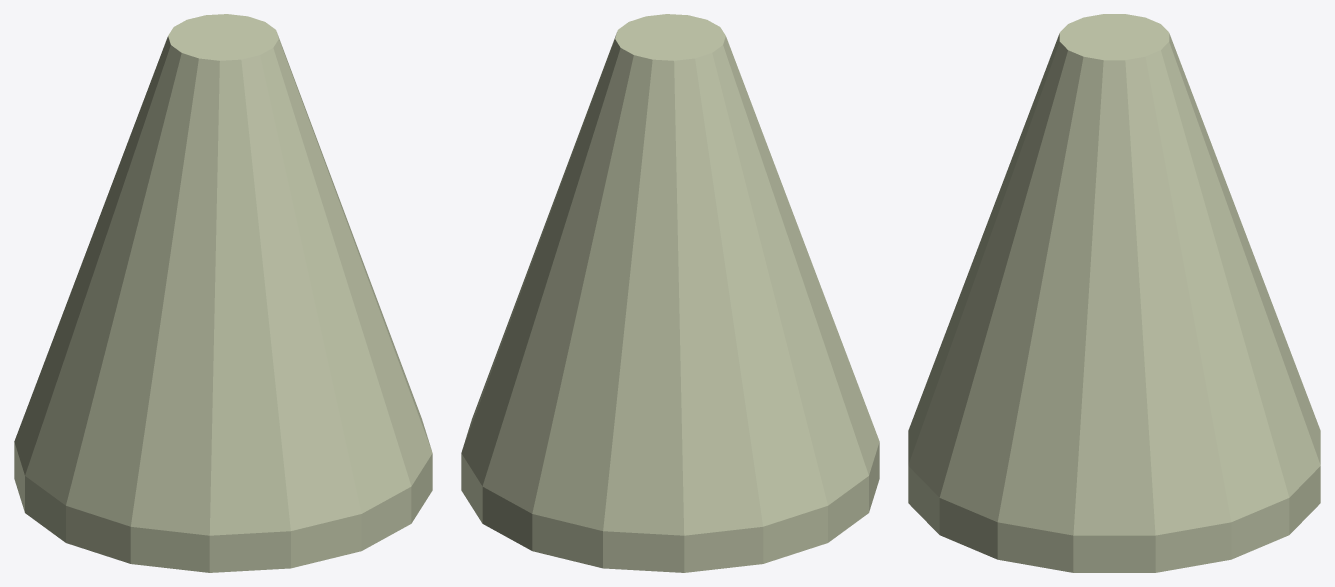
Rendered from Conic_ProbeCore_0_1_Collider.obj.
The picture shows the model from 3 angles, left to right: view 1: azimuth 30°, elevation 25°; view 2: azimuth 150°, elevation 25°; view 3: azimuth 270°, elevation 25°; orthographic projection.
Visible parts, largest first — view 1: SatConic_ProbeCore_0_1_Collider; view 2: SatConic_ProbeCore_0_1_Collider; view 3: SatConic_ProbeCore_0_1_Collider.
Part boxes in pixels (box(x1,y1,x2,y2)): SatConic_ProbeCore_0_1_Collider: box(14, 14, 432, 572); SatConic_ProbeCore_0_1_Collider: box(461, 14, 879, 572); SatConic_ProbeCore_0_1_Collider: box(908, 14, 1320, 572).
Size of the model in its own units: 0.625 by 0.75 by 0.625.
